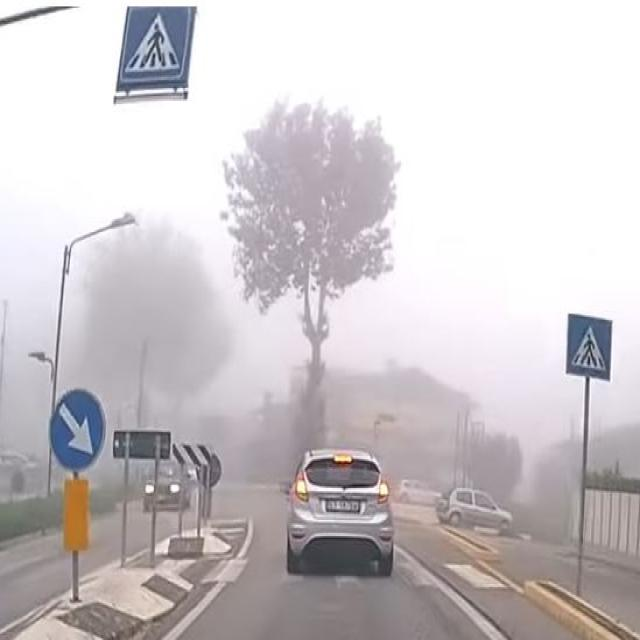Car: (281, 450, 396, 576)
Pedestrian crosswalk: (195, 556, 519, 597), (120, 8, 191, 78), (567, 315, 611, 376)
